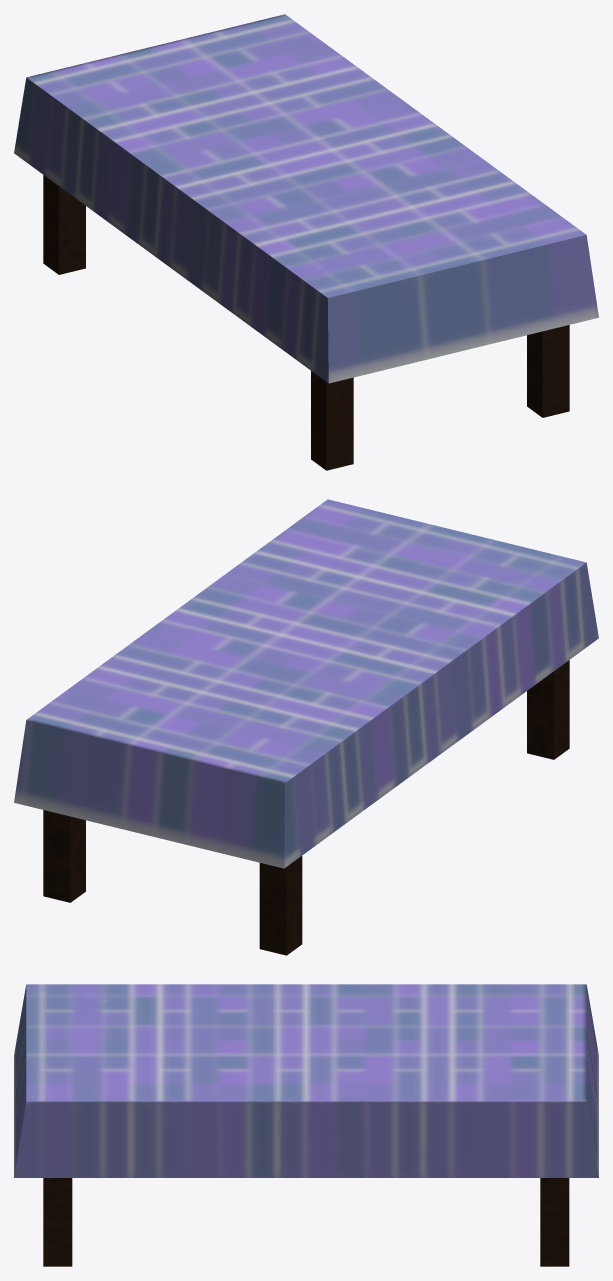
Rendered from fae table.dae.
3 views of the same model, one above another, from view 1: azimuth 30°, elevation 25°; view 2: azimuth 150°, elevation 25°; view 3: azimuth 270°, elevation 25° (orthographic). The views are drawn at different scales.
Visible parts, largest first — view 1: Plane; view 2: Plane; view 3: Plane.
Boxes of the visible parts, left/top/right/bottom form: Plane: left=14, top=14, right=598, bottom=470; Plane: left=14, top=499, right=598, bottom=955; Plane: left=14, top=984, right=598, bottom=1266.
Size of the model in its own units: 0.2482 by 0.5007 by 0.1591.
1 material, 1 textured.
